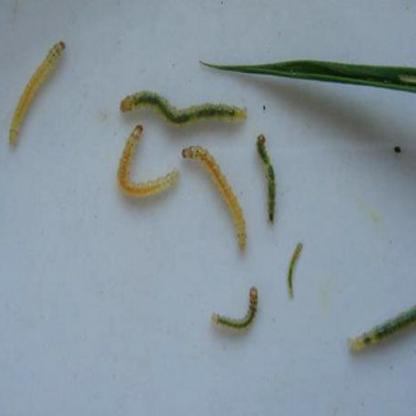leaf-folder: (175, 136, 251, 257), (114, 83, 258, 137), (10, 33, 62, 165), (113, 116, 178, 202), (241, 113, 290, 226), (350, 298, 416, 360), (212, 274, 267, 338), (282, 235, 313, 312)
